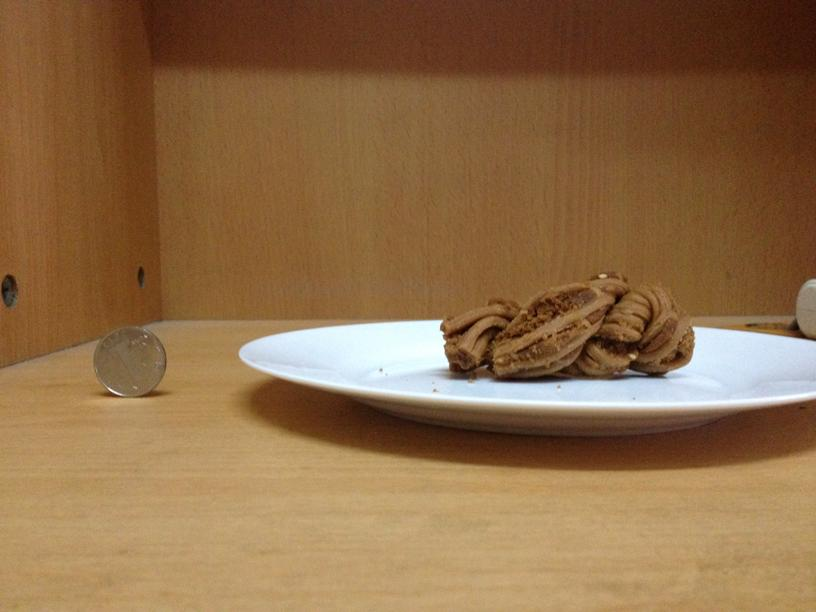coin: (92, 328, 165, 396)
fired_dough_twist: (441, 277, 695, 379)
